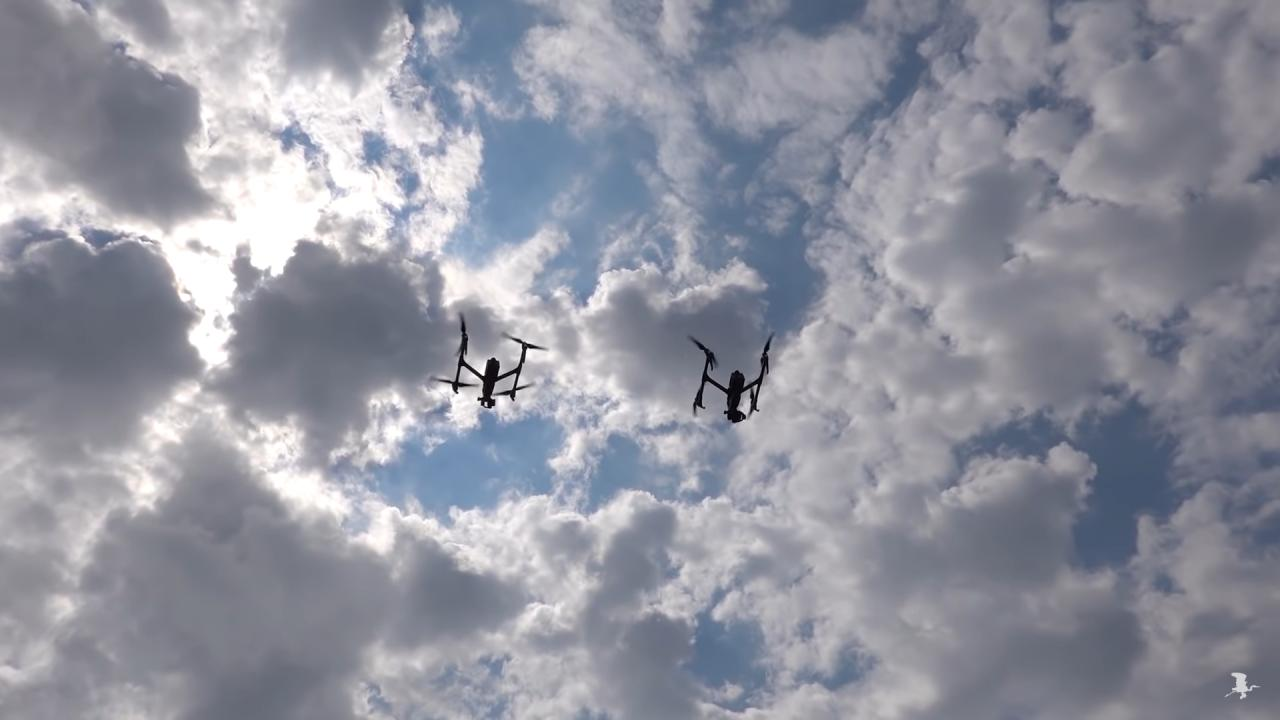Drone: (423, 303, 558, 423), (677, 324, 789, 434)
